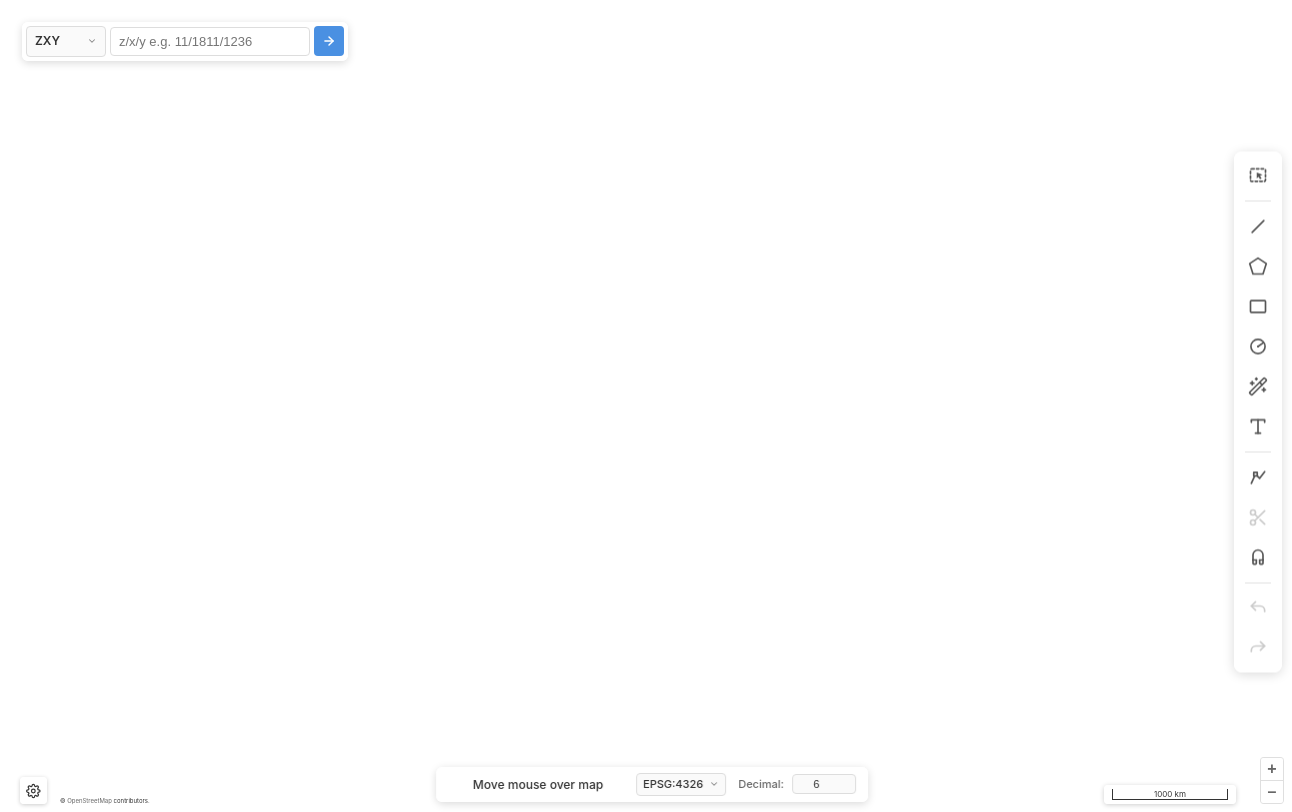
it: right-clicking the line tool arms magnetic edges and shows the hint bar
The width and height of the screenshot is (1292, 812).
Check: the text "Magnetic edges" is not shown
Right-click the tool button: arms the mode AND activates the tool.
Step 1. Right-click the button titled "Draw Line" → (1258, 226), box left=1240, top=208, right=1276, bottom=244
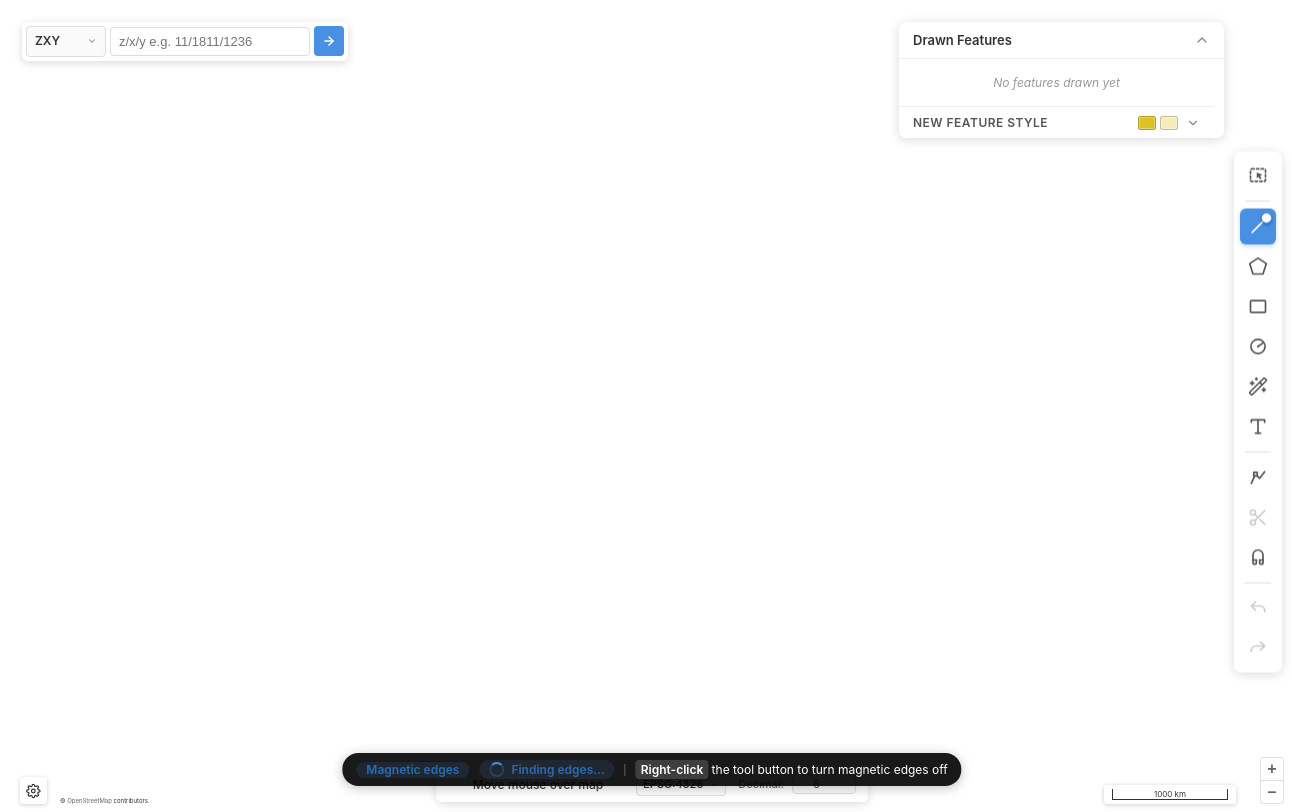
Check: the text "Magnetic edges" is shown, box left=356, top=762, right=469, bottom=778
Check: the element with class "draw-toolbar-snap-badge" is shown, box left=1261, top=212, right=1272, bottom=224
Step 2. Right-click the button titled "Draw Line" → (1258, 226), box left=1240, top=208, right=1276, bottom=244
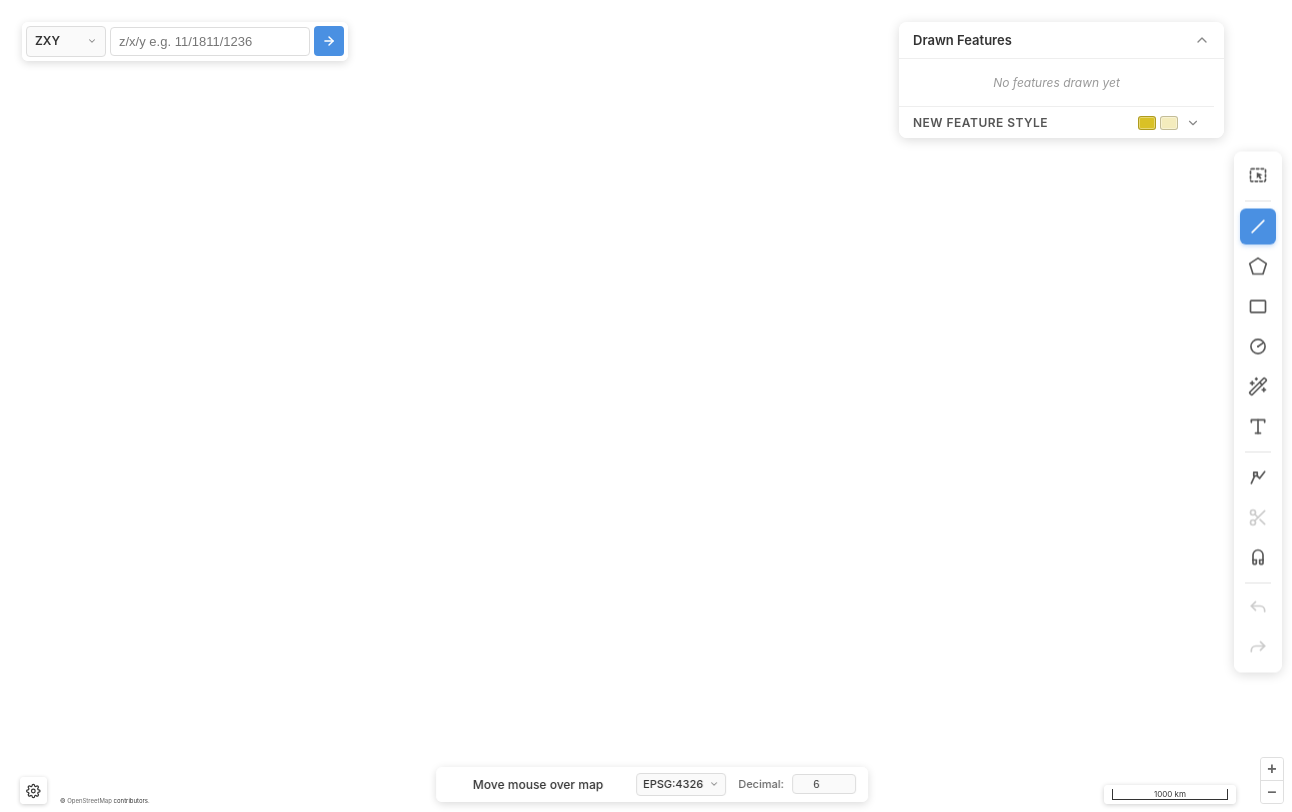
Check: the text "Magnetic edges" is gone
Check: the element with class "draw-toolbar-snap-badge" is gone
